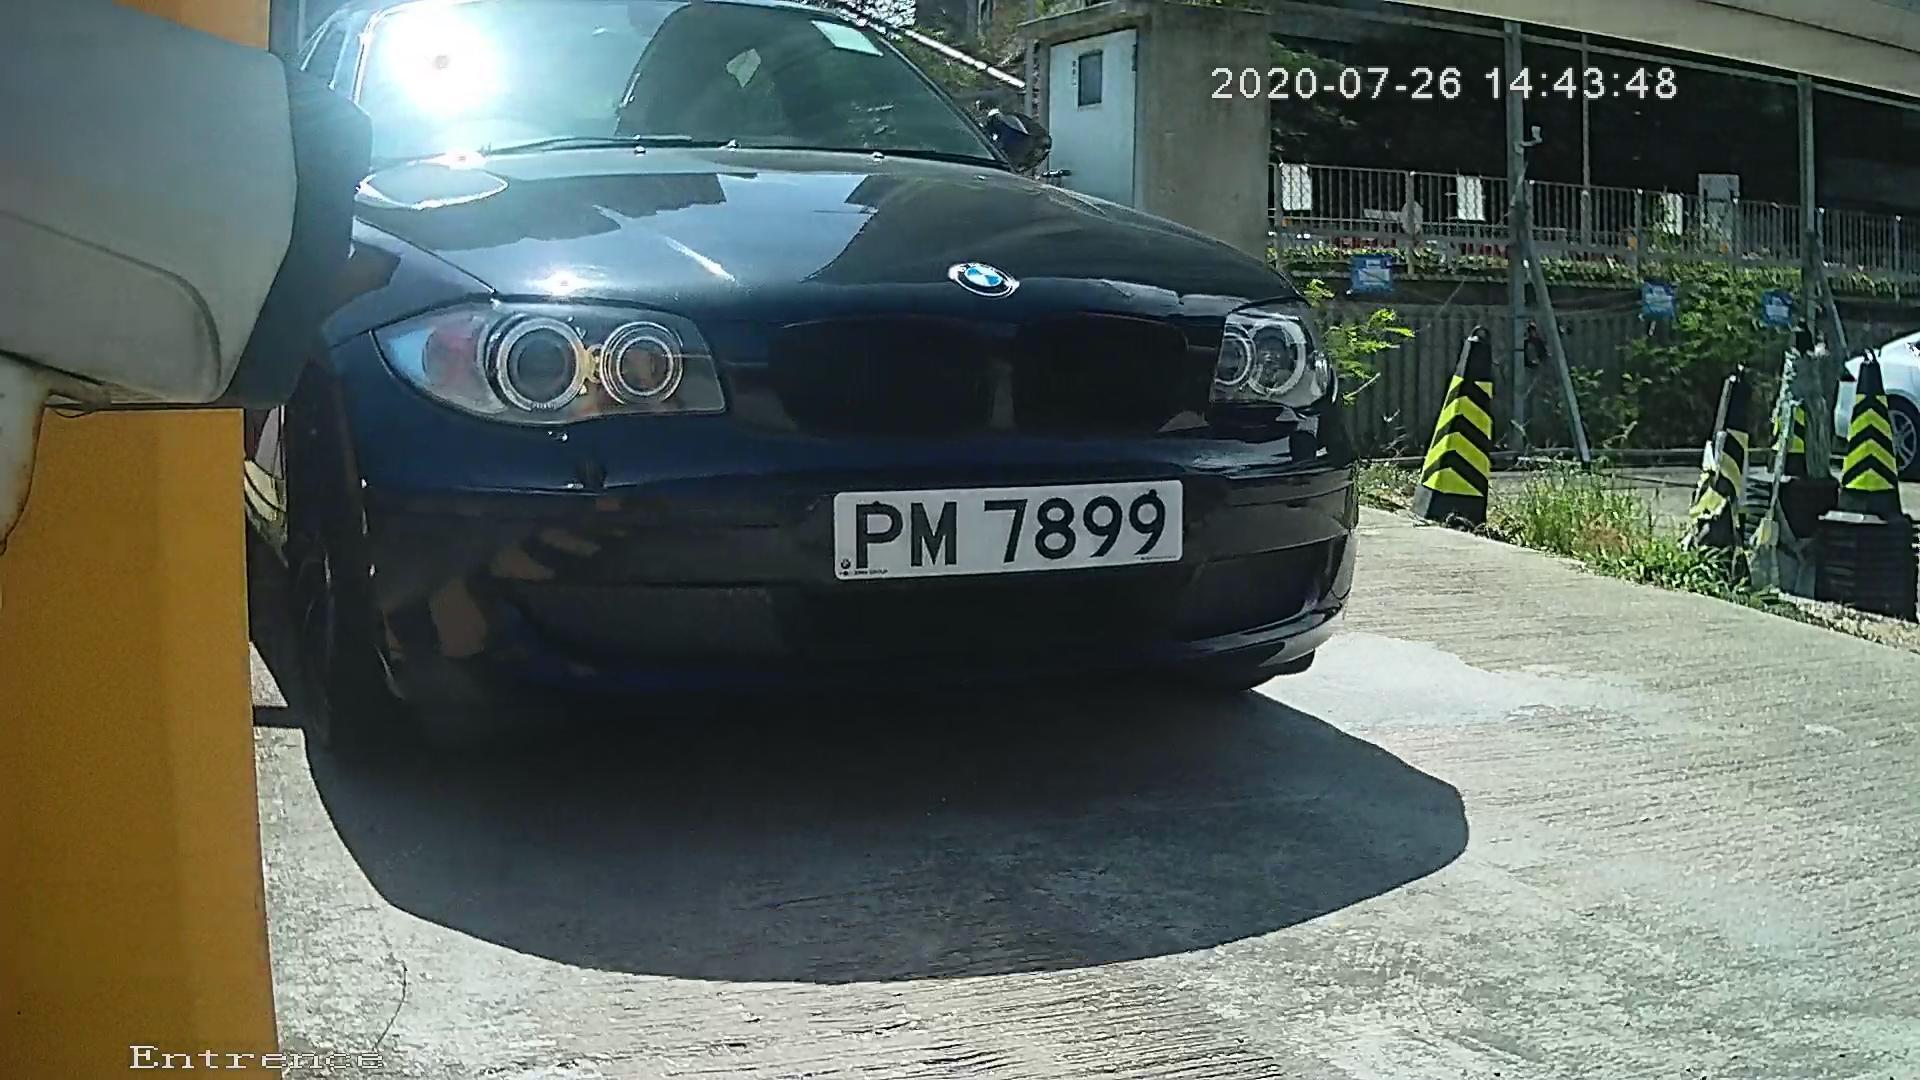privatecar: (249, 11, 1364, 800)
